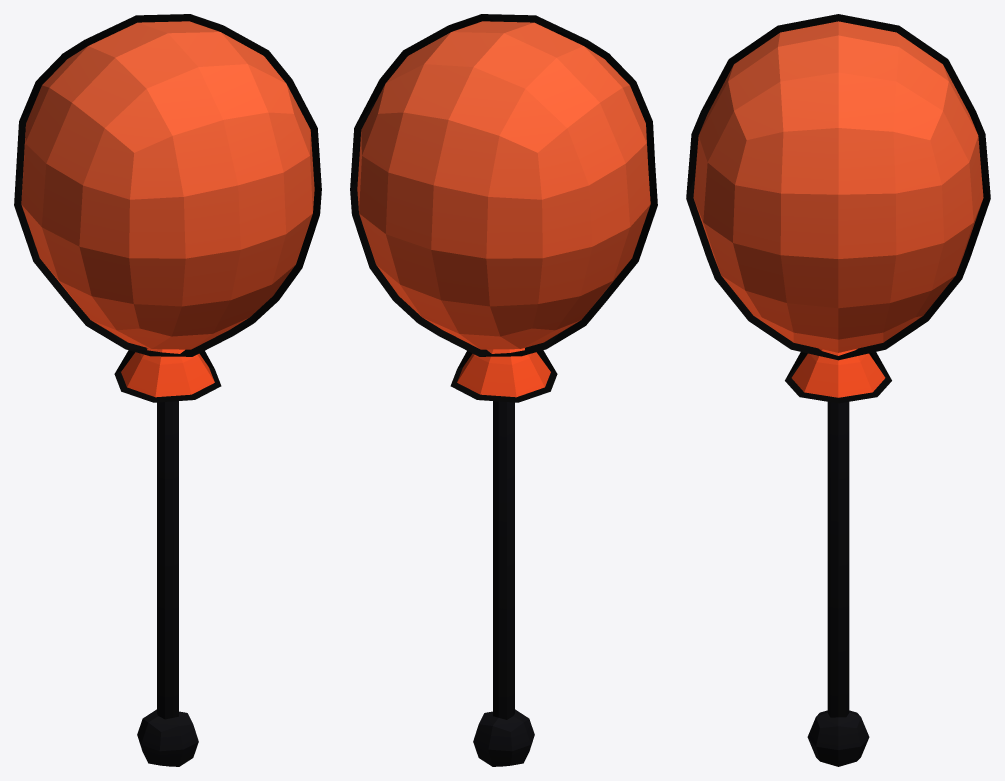
Rendered from item_balloon_red.fbx.
3 views of the same model, side by side, from view 1: azimuth 30°, elevation 25°; view 2: azimuth 150°, elevation 25°; view 3: azimuth 270°, elevation 25° (orthographic).
Visible parts, largest first — view 1: Balloon, BalloonThread; view 2: Balloon, BalloonThread; view 3: Balloon, BalloonThread.
Part boxes in pixels (x1,y1,x2,y2): Balloon: (14,14,321,402); BalloonThread: (137,401,198,766); Balloon: (350,14,657,402); BalloonThread: (473,401,534,766); Balloon: (686,14,990,403); BalloonThread: (807,402,869,766).
Size of the model in its own units: 82.56 by 220 by 82.56.
